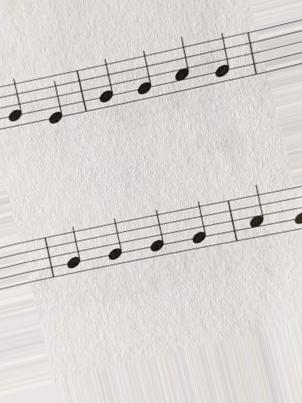note: (46, 68, 68, 137), (244, 180, 267, 244), (186, 198, 211, 256), (145, 207, 169, 265), (60, 226, 84, 281), (95, 56, 115, 120), (173, 32, 193, 94), (105, 217, 125, 278), (6, 76, 28, 131), (135, 45, 154, 107), (213, 33, 232, 85)
